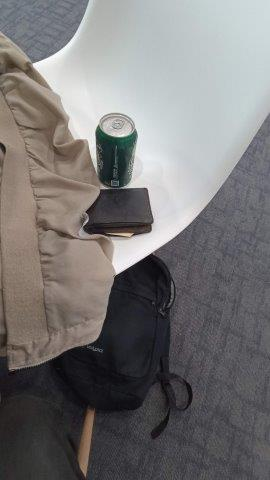kaleng: (95, 113, 139, 189)
